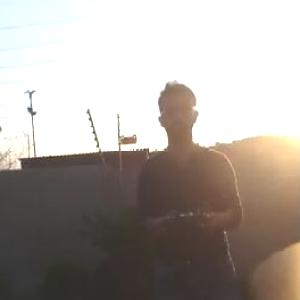follow: (128, 74, 248, 299)
